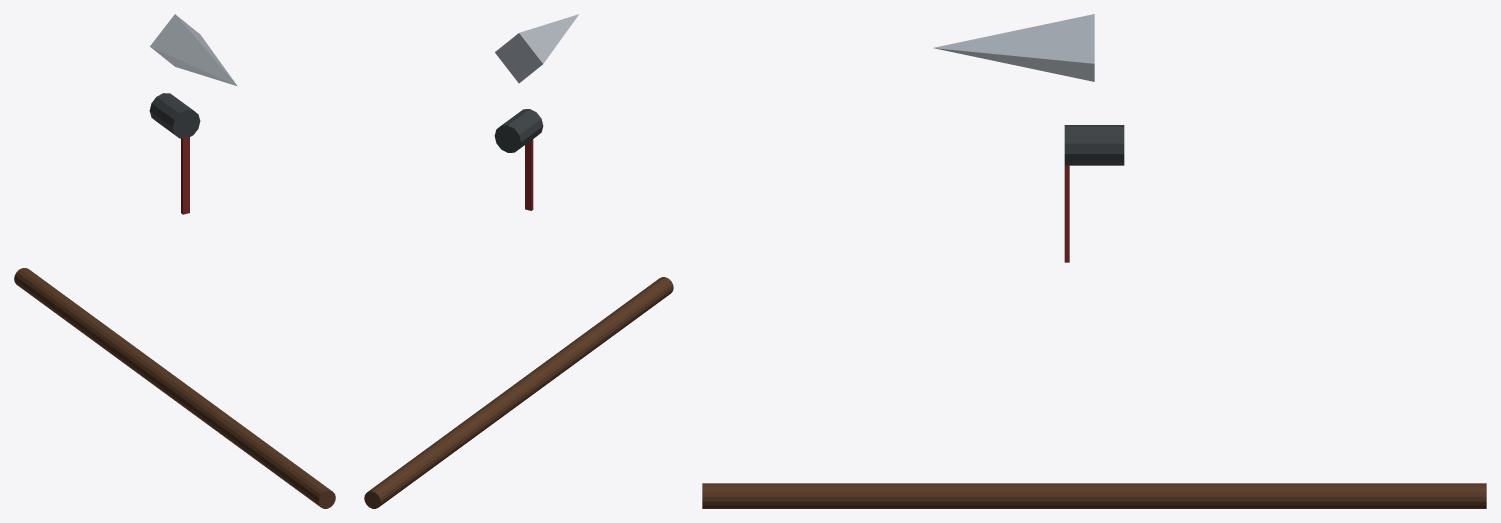
Rendered from spear.glb.
The picture shows the model from 3 angles, left to right: view 1: azimuth 30°, elevation 25°; view 2: azimuth 150°, elevation 25°; view 3: azimuth 270°, elevation 25°; orthographic projection. The views are drawn at different scales.
Parts seen in each view (by area): view 1: spear_0, spear_2, spear_1, spear_3; view 2: spear_0, spear_2, spear_1, spear_3; view 3: spear_0, spear_2, spear_1.
Boxes of the visible parts, x1,y1,x2,y2 form: spear_0: (14,268,335,508); spear_2: (150,14,237,86); spear_1: (149,93,200,138); spear_3: (181,135,189,214); spear_0: (364,277,673,508); spear_2: (495,14,578,83); spear_1: (494,109,543,152); spear_3: (525,139,533,210); spear_0: (702,483,1486,508); spear_2: (933,14,1094,81); spear_1: (1064,125,1124,165).
Size of the model in its own units: 0.44 by 3.19 by 4.6.
